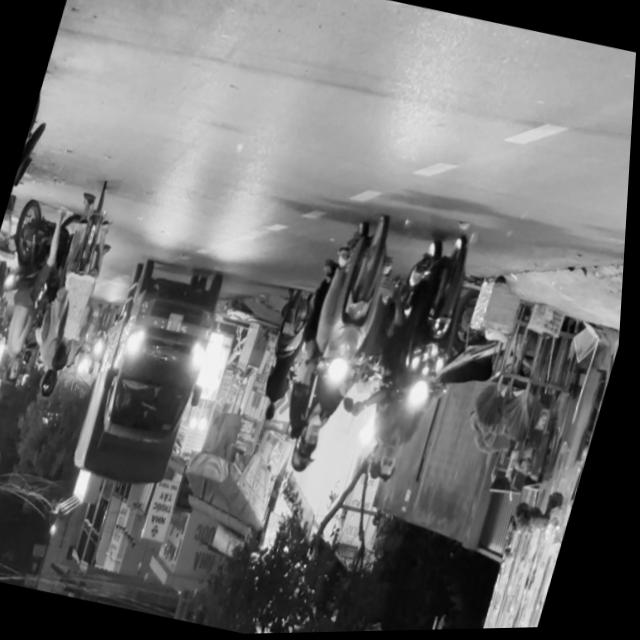helmet: (295, 419, 330, 476)
licenseplate: (270, 210, 409, 485), (348, 224, 487, 496)
motorcyclist: (378, 442, 409, 488), (371, 442, 396, 484)
